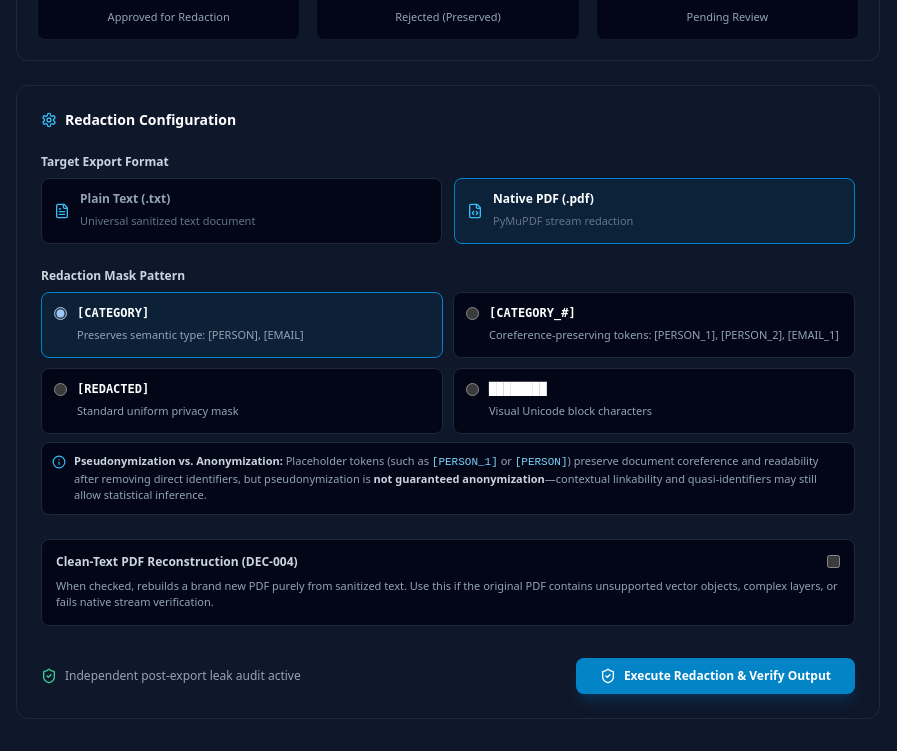
Test: ExportView Page › shows layout loss warning when clean-text reconstruction is used
(page scrolled)
expect the text "Execute Redaction & Verify Output" is shown: met, box left=624, top=668, right=831, bottom=684
Click the button "Execute Redaction & Verify Output" at [715, 676], box left=576, top=658, right=855, bottom=694
(page scrolled)
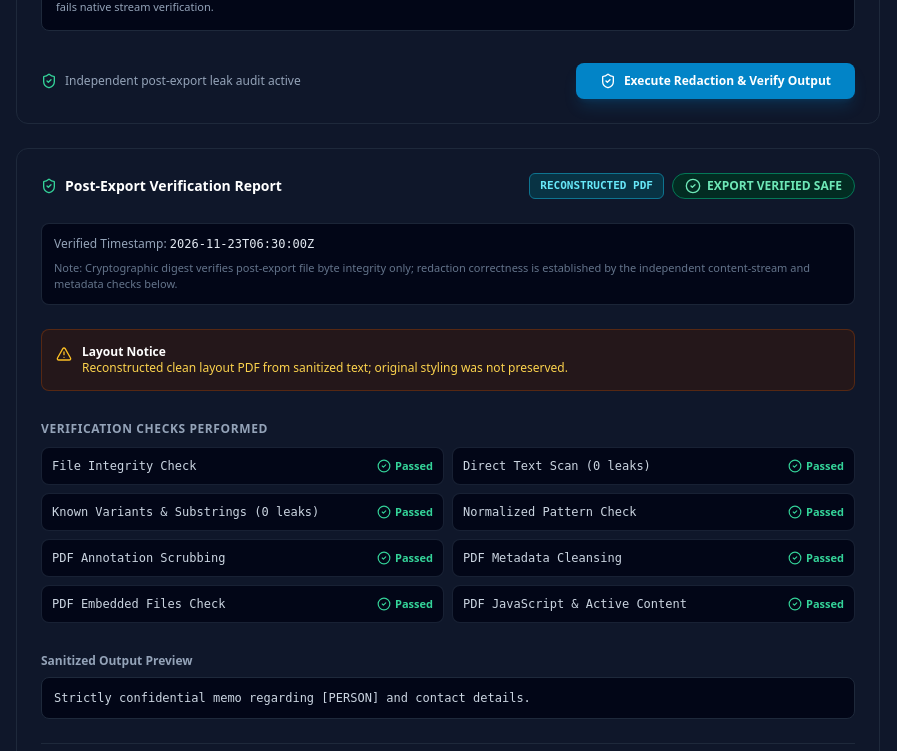
expect the text "Layout Notice" is shown: met, box left=82, top=343, right=166, bottom=360
expect the text "Reconstructed clean layout PDF from sanitized text" is shown: met, box left=82, top=359, right=568, bottom=376
